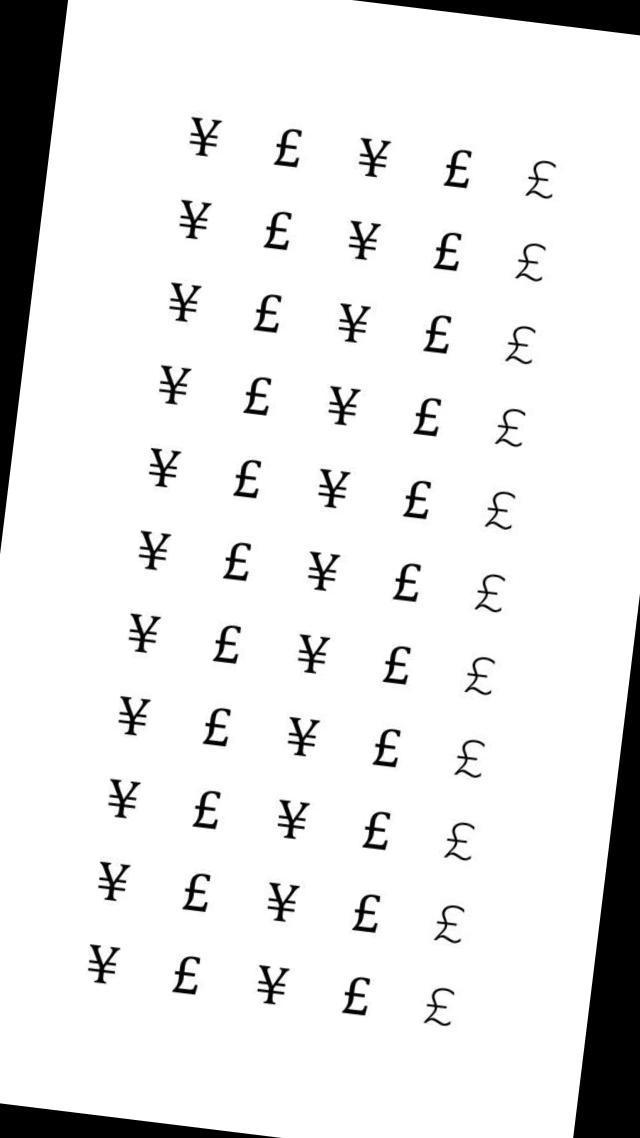ASCII: (80, 934, 126, 1000), (250, 955, 296, 1020), (488, 398, 534, 463), (418, 976, 463, 1042), (322, 373, 366, 440), (182, 102, 228, 166), (152, 353, 196, 419), (352, 124, 398, 186), (172, 188, 218, 250), (458, 647, 504, 709), (509, 234, 554, 297), (499, 315, 544, 378), (342, 208, 387, 270), (132, 517, 177, 579), (91, 849, 136, 911), (142, 436, 186, 499), (260, 872, 306, 932), (101, 770, 146, 831), (281, 705, 326, 766), (428, 891, 472, 953), (271, 790, 315, 852), (312, 458, 356, 520), (165, 945, 208, 1008), (291, 625, 336, 685), (122, 603, 166, 664), (520, 148, 564, 209), (479, 481, 523, 542), (448, 731, 492, 792), (438, 811, 482, 872), (468, 567, 512, 628), (416, 303, 458, 366), (335, 966, 377, 1029), (332, 290, 376, 350), (112, 685, 156, 745), (302, 540, 346, 600), (175, 860, 218, 921), (426, 221, 468, 283), (247, 282, 289, 344), (406, 388, 448, 450), (376, 635, 418, 697), (163, 270, 207, 329), (194, 700, 237, 760), (436, 137, 479, 197), (206, 614, 248, 675), (365, 720, 407, 781), (256, 202, 298, 262), (185, 780, 227, 840), (226, 449, 268, 509), (355, 801, 397, 861), (236, 368, 278, 428), (396, 470, 437, 530), (216, 535, 257, 594), (346, 881, 386, 941), (268, 116, 308, 176), (388, 554, 428, 612)
